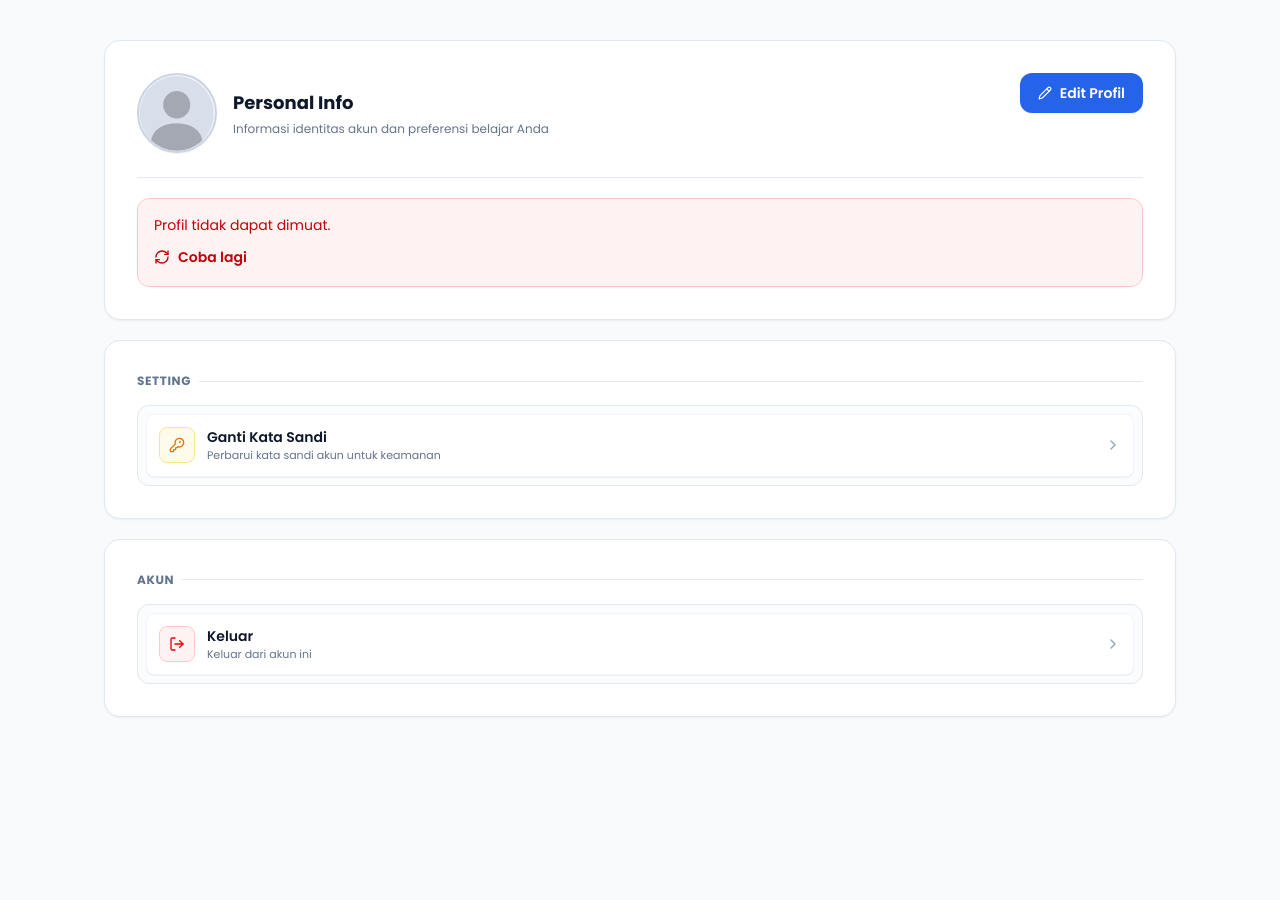
Test: PersonalizationProfile › shows a server error and retries loading the profile
Check: the message shows "Profil tidak dapat dimuat.", box [154, 215, 330, 235]
Click the button "Coba lagi": [200, 257] box [154, 247, 247, 267]
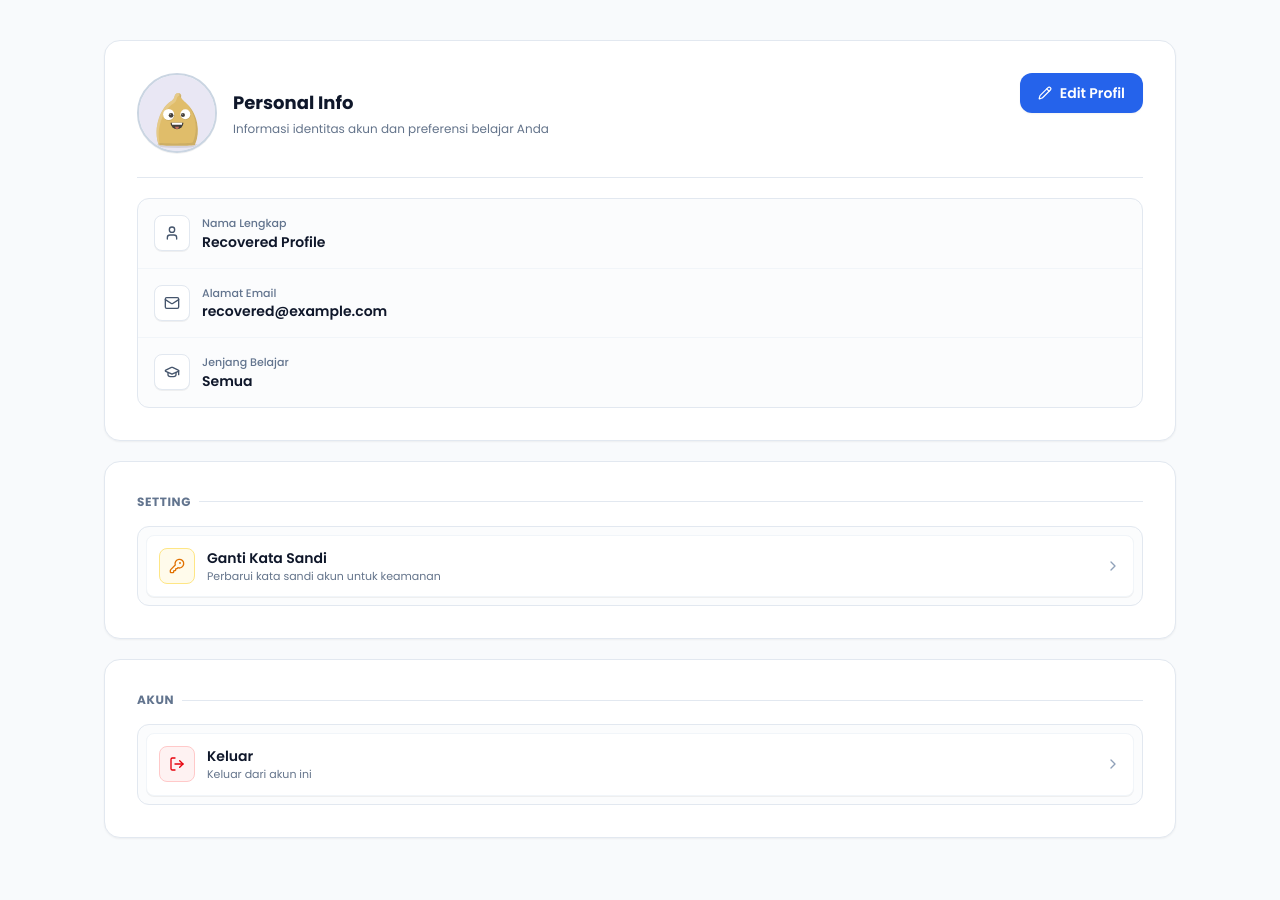
Check: the text "Recovered Profile" is shown, box [202, 232, 326, 252]
Check: the text "Semua" is shown, box [202, 370, 253, 390]
